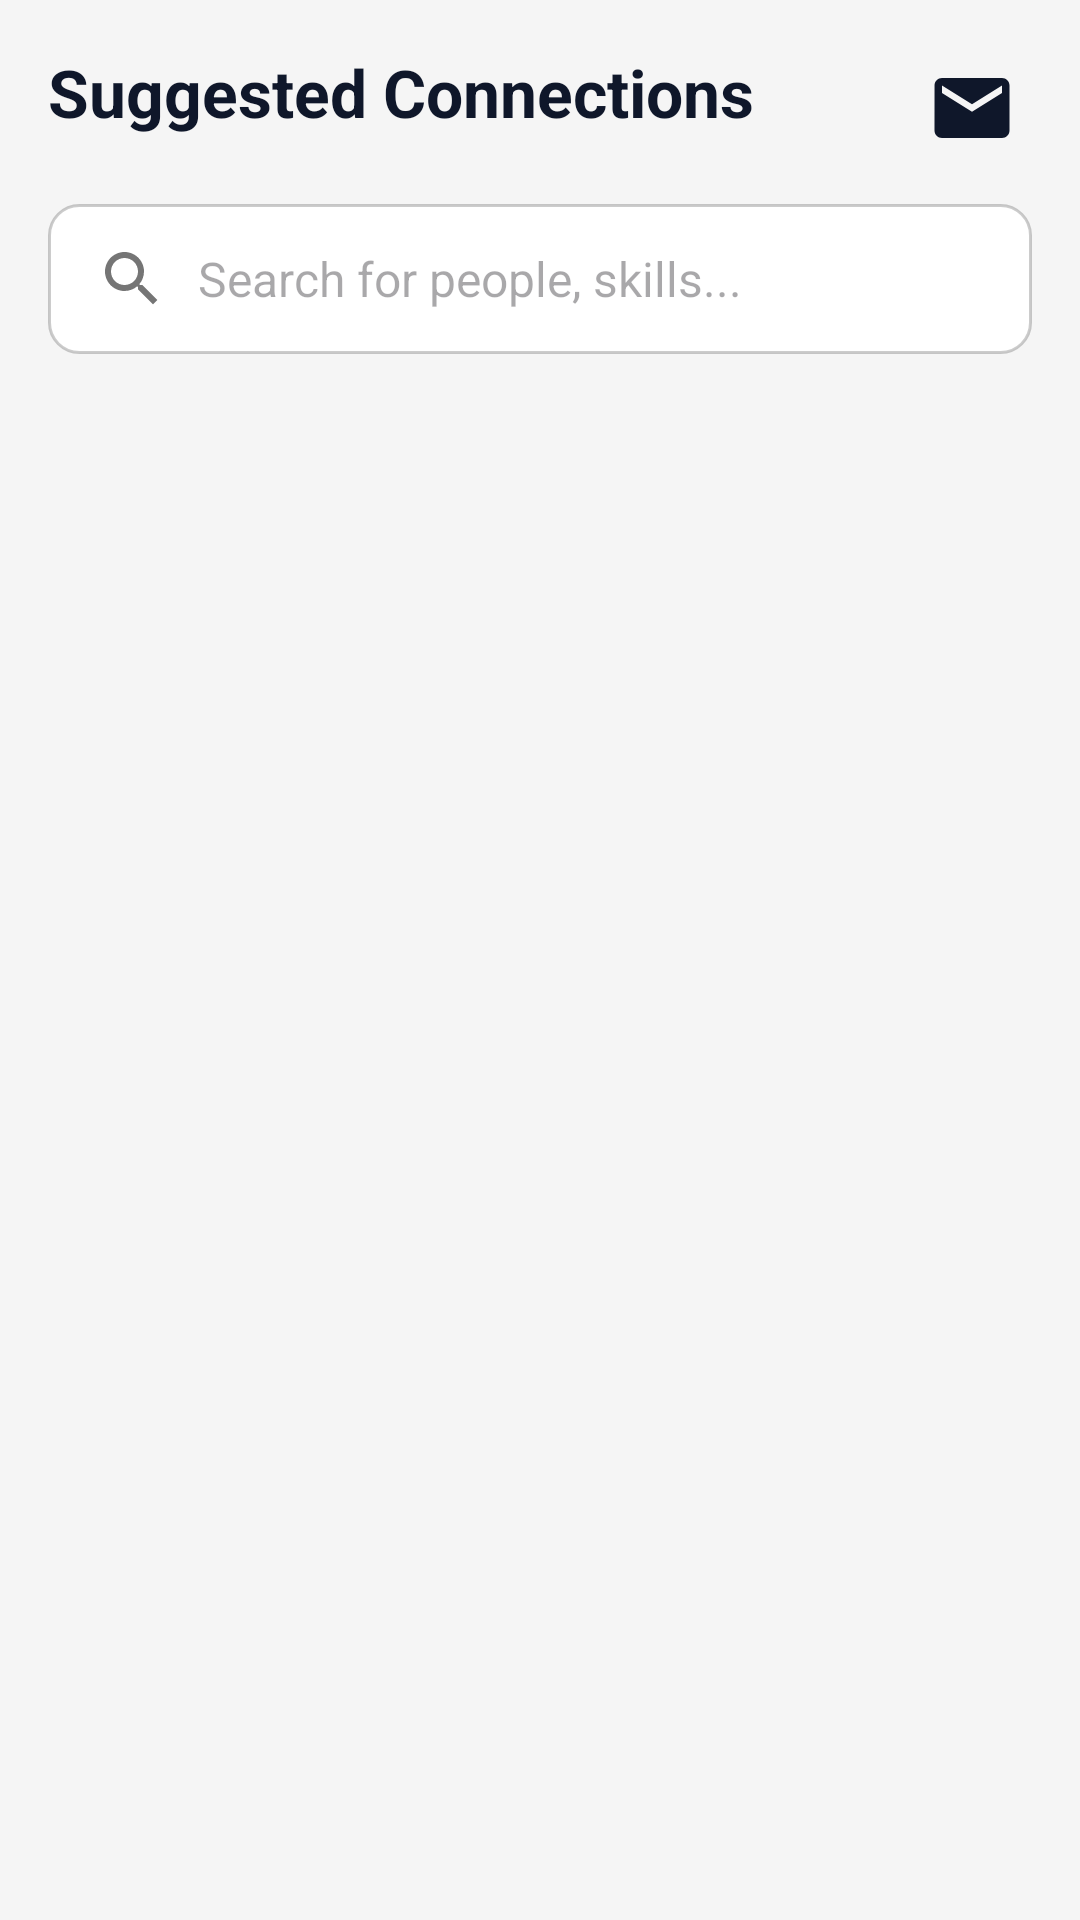

Where to tap for icons on this 1080w x 1920h app screen, as [x,y]:
email: [972,108]
